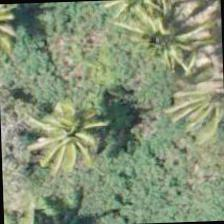Kelapa_Sawit: (34, 85, 127, 178), (117, 0, 211, 83), (167, 51, 223, 145)
